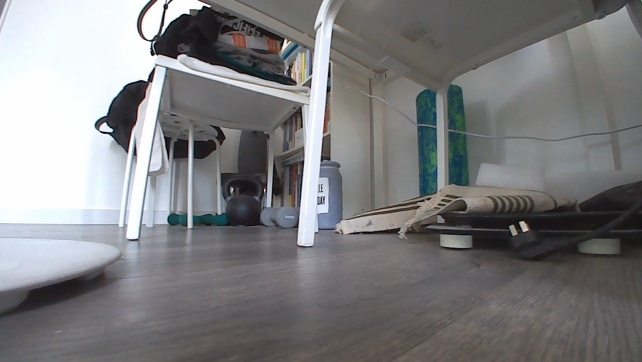wire: (332, 62, 641, 142), (507, 197, 641, 262)
